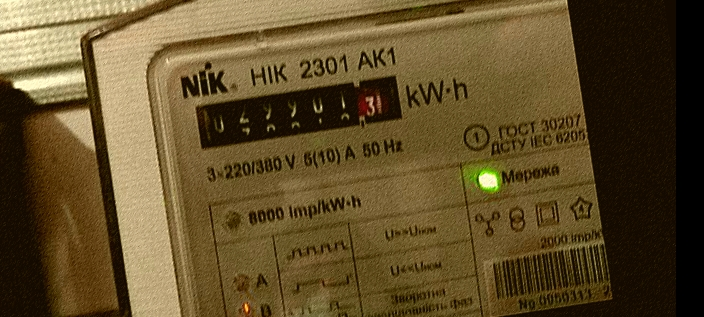0: (307, 89, 326, 116), (208, 110, 226, 134)
1: (334, 85, 349, 111)
2: (233, 101, 251, 125)
3: (360, 93, 379, 118)
9: (284, 95, 299, 119), (259, 98, 274, 120)
screen: (185, 65, 413, 160)
